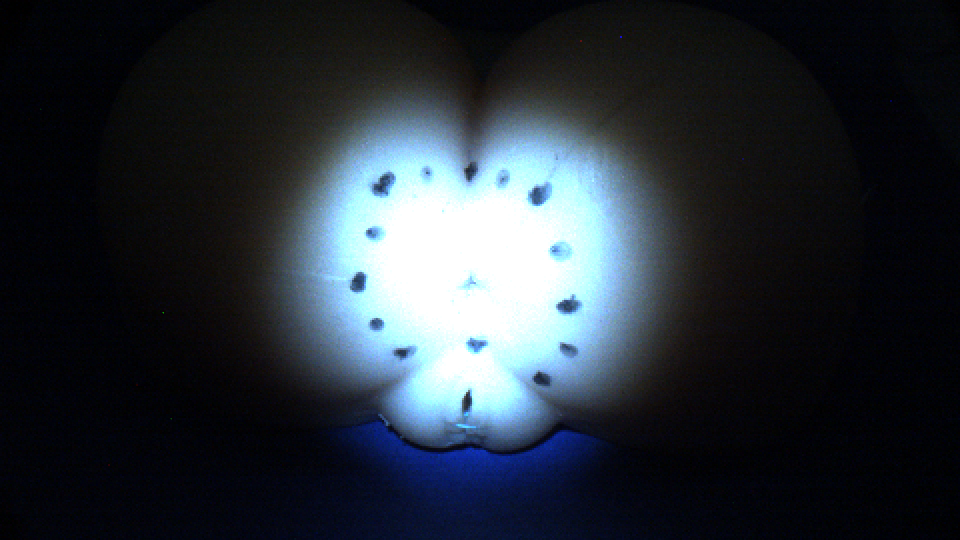asarp_marker: (366, 165, 400, 200), (553, 293, 588, 317), (525, 182, 557, 206), (527, 363, 552, 392), (556, 334, 581, 362), (363, 221, 392, 241), (347, 271, 370, 296), (393, 341, 417, 362), (461, 161, 484, 182), (464, 336, 490, 354), (364, 317, 389, 335), (549, 239, 569, 261), (494, 169, 512, 189), (418, 162, 436, 180)
